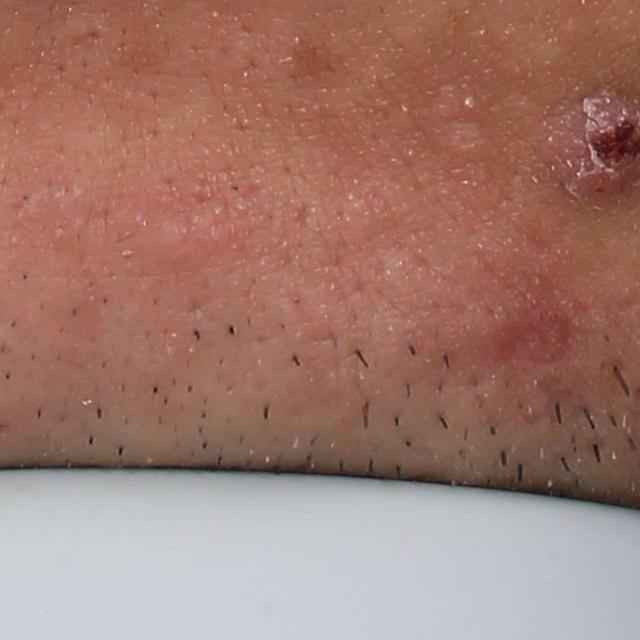atrophic_scar: (68, 26, 102, 53), (293, 195, 314, 232)
hypertrophic_scar: (432, 83, 499, 166)
